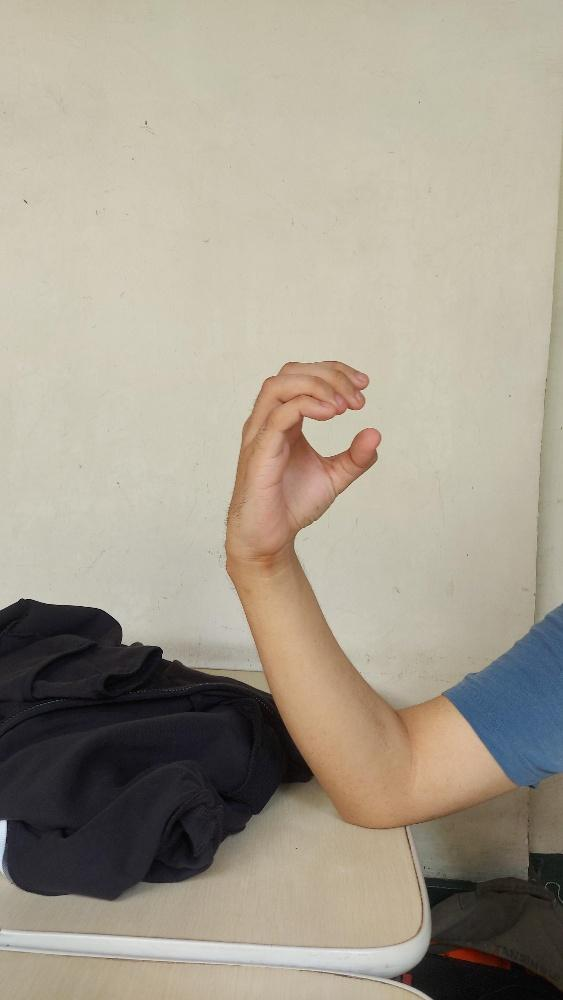c: (223, 360, 380, 559)
